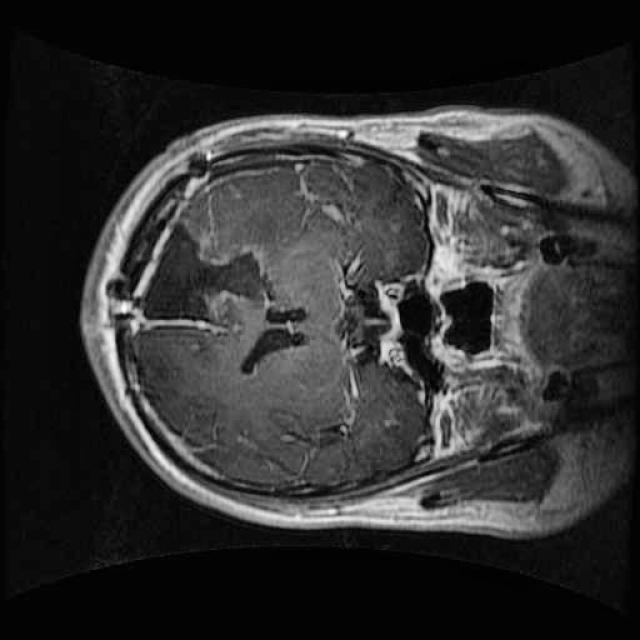Non-Tumor: (110, 205, 228, 349)
